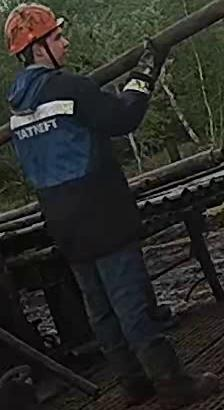gloves: (128, 33, 175, 88)
helmet: (3, 2, 65, 57)
vest: (7, 66, 142, 261)
